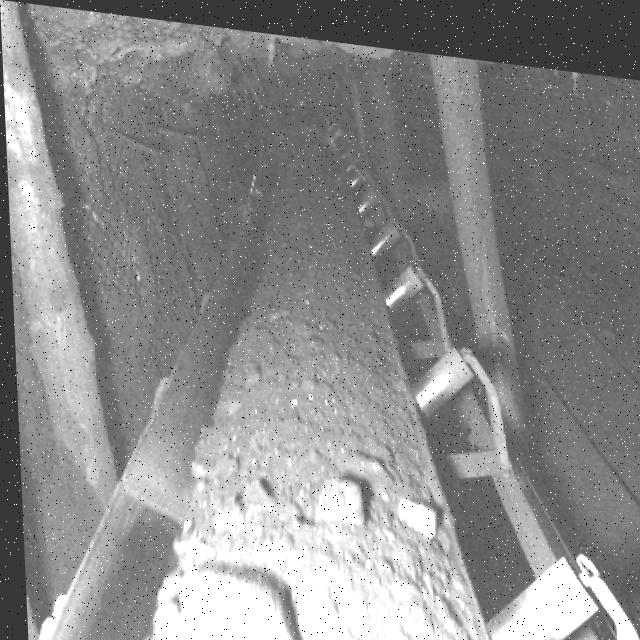large_sized_coal: (168, 555, 298, 640), (310, 465, 362, 523), (394, 484, 434, 527)
